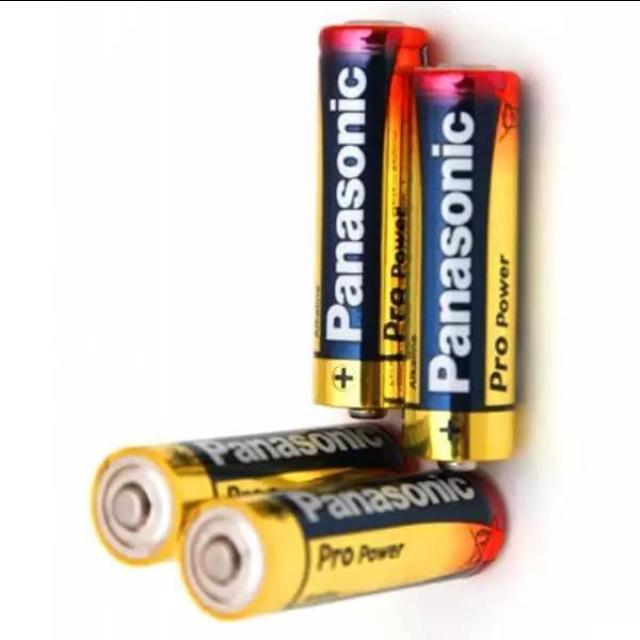AA: (397, 61, 526, 475), (176, 466, 511, 623), (309, 15, 435, 425)
